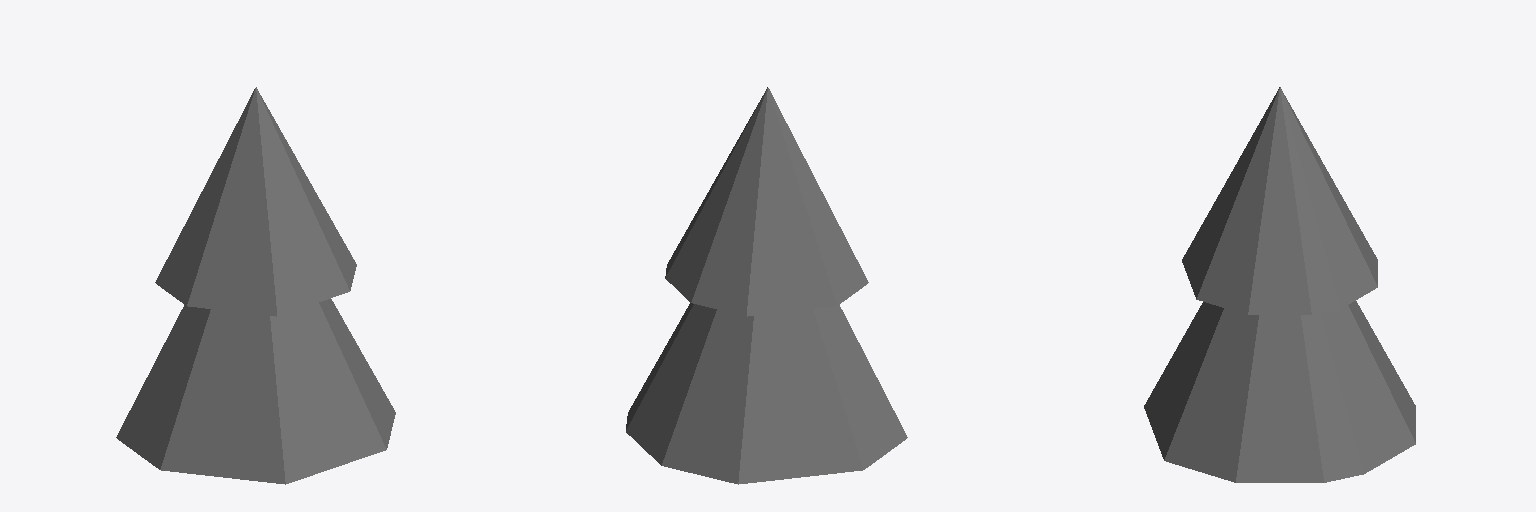
File: tree3.obj
3 renders of one model, left to right at view 1: azimuth 30°, elevation 25°; view 2: azimuth 150°, elevation 25°; view 3: azimuth 270°, elevation 25°, orthographic.
Visible parts, largest first — view 1: pCone1, pCone2; view 2: pCone1, pCone2; view 3: pCone1, pCone2.
Boxes of the visible parts, x1,y1,x2,y2 form: pCone1: [116, 299, 395, 484]; pCone2: [155, 87, 356, 316]; pCone1: [626, 303, 907, 484]; pCone2: [665, 87, 868, 316]; pCone1: [1144, 301, 1415, 482]; pCone2: [1182, 87, 1377, 314].
Bounding box in the file's own units: 1.32 × 1.82 × 1.32.